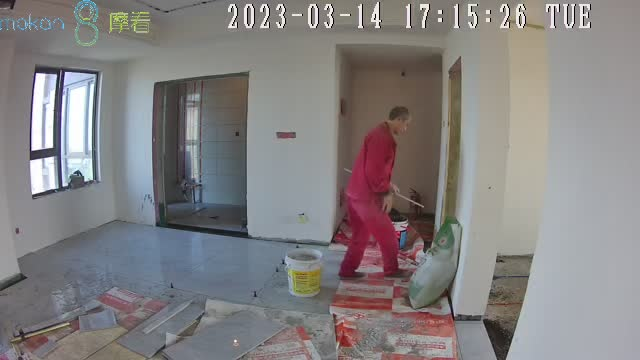people: (338, 105, 412, 279)
window: (30, 66, 99, 197)
